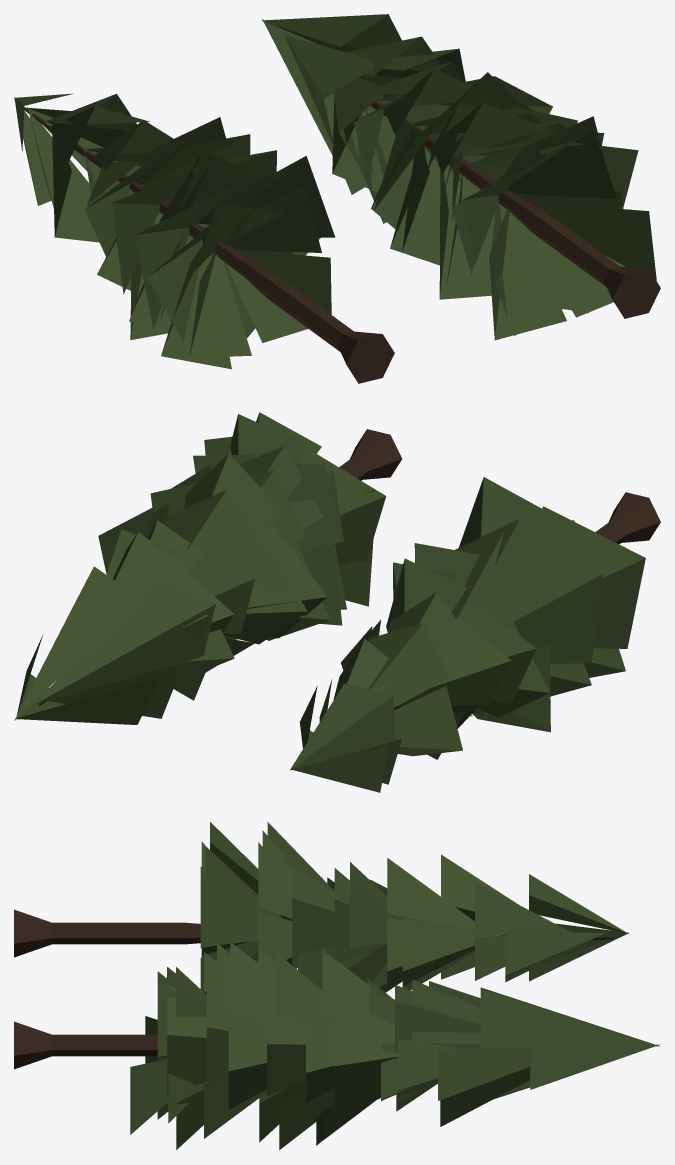
Rendered from Trees.fbx.
3 renders of one model, top to bottom at view 1: azimuth 30°, elevation 25°; view 2: azimuth 150°, elevation 25°; view 3: azimuth 270°, elevation 25°, orthographic. The views are drawn at different scales.
Parts seen in each view (by area): view 1: Fir Tree 2, Fir Tree 1; view 2: Fir Tree 2, Fir Tree 1; view 3: Fir Tree 2, Fir Tree 1.
Boxes of the visible parts, left/top/right/bottom form: Fir Tree 2: left=262, top=14, right=660, bottom=340; Fir Tree 1: left=14, top=93, right=394, bottom=383; Fir Tree 2: left=14, top=412, right=401, bottom=724; Fir Tree 1: left=290, top=477, right=660, bottom=792; Fir Tree 2: left=14, top=942, right=659, bottom=1149; Fir Tree 1: left=14, top=822, right=628, bottom=992.
Size of the model in its own units: 5179 by 2208 by 6839.
